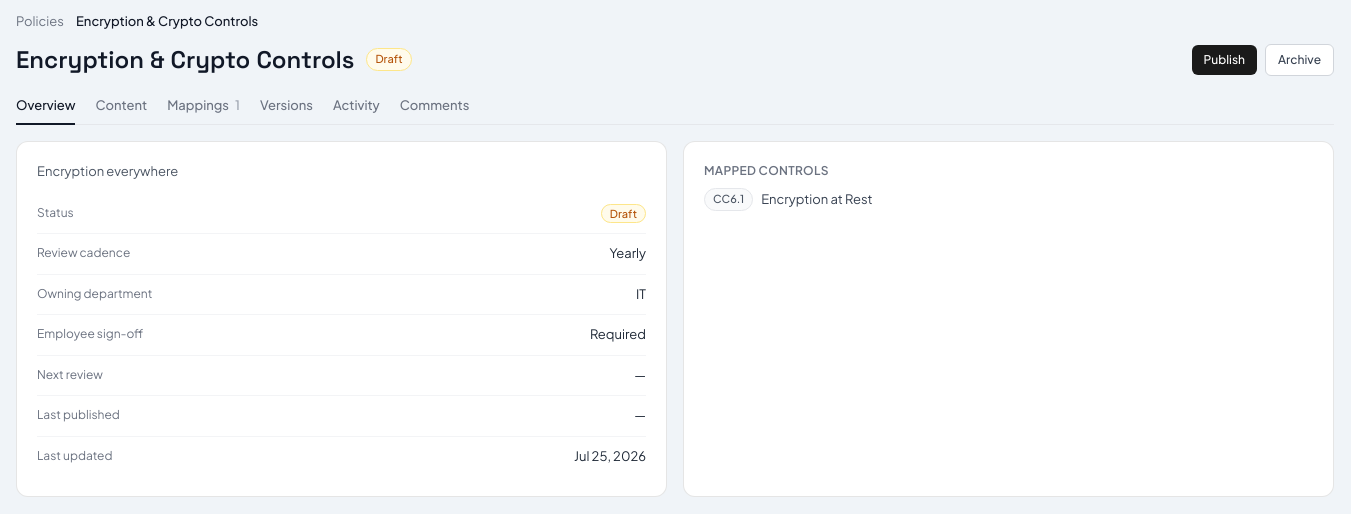
Test case: Soc2PolicyDetailPage › shows the rendered document content on the Content tab
The image size is (1351, 514).
Click the button "Content": point(121, 110) [96,96,147,125]
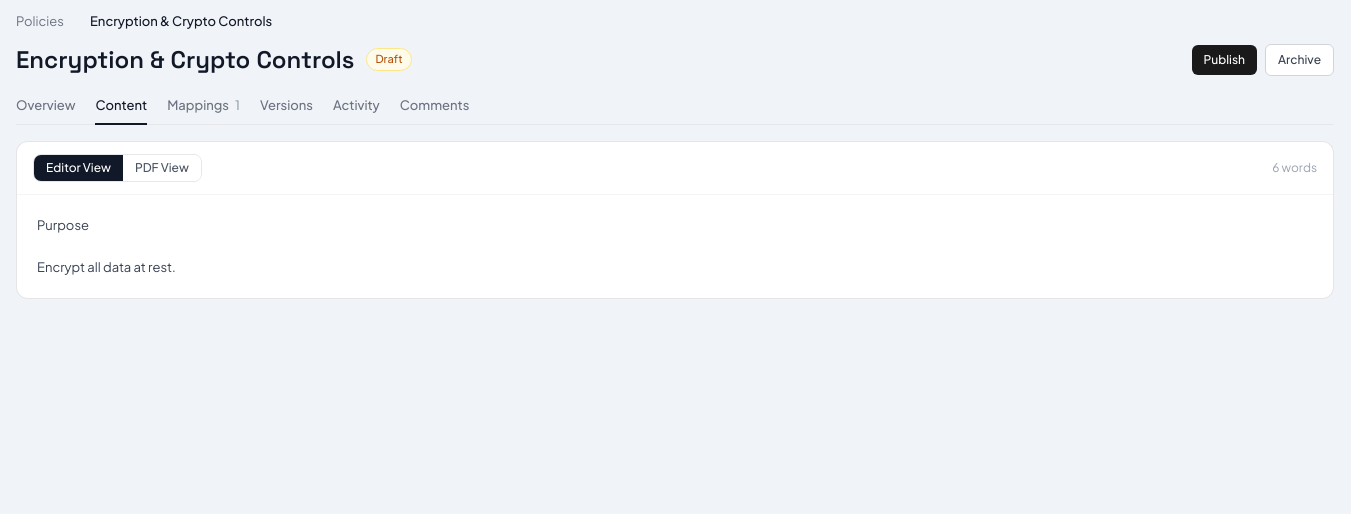
expect the text "Purpose Encrypt all data at rest." is shown: met, box [37,217,176,275]
expect the button "PDF View" is shown: met, box [123,155,201,181]
